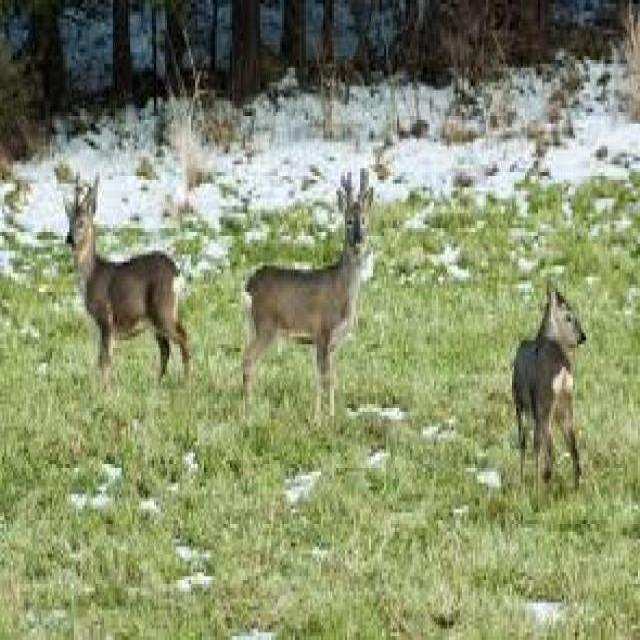deer: (230, 163, 380, 418), (52, 162, 195, 382), (510, 236, 592, 513)
